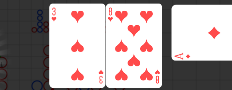10H: (108, 7, 115, 23)
3H: (51, 7, 58, 23)
AD: (174, 52, 192, 61)
